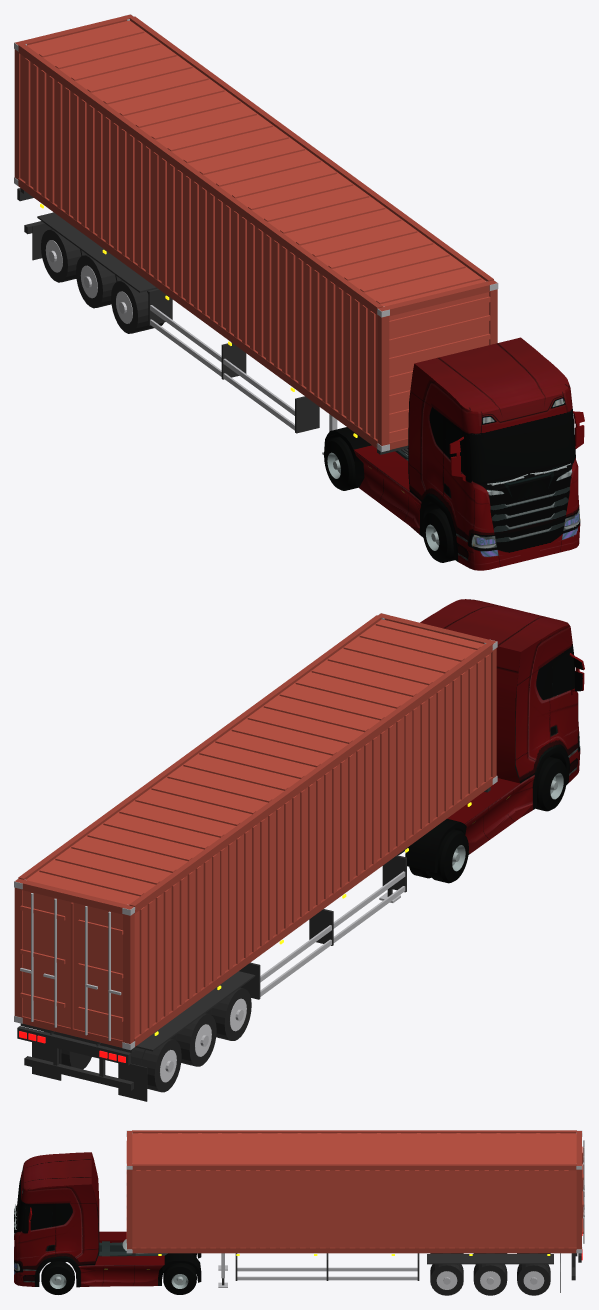
File: semi_container45_red.glb
3 views of the same model, one above another, from view 1: azimuth 30°, elevation 25°; view 2: azimuth 150°, elevation 25°; view 3: azimuth 270°, elevation 25° (orthographic). The views are drawn at different scales.
Visible parts, largest first — view 1: trailer_container, Cube.001, trailer_wheels, trailer_chassis, Cube.003, Cube.005; view 2: trailer_container, Cube.001, trailer_chassis, trailer_wheels, Cube.005, Cube.003; view 3: trailer_container, Cube.001, trailer_wheels, trailer_chassis, Cube.006, Cube.004.
Part boxes in pixels (box(x1,y1,x2,y2)): trailer_container: box(14, 14, 498, 452); Cube.001: box(324, 337, 584, 570); trailer_wheels: box(37, 212, 164, 333); trailer_chassis: box(17, 188, 408, 454); Cube.003: box(422, 508, 454, 562); Cube.005: box(324, 437, 357, 490); trailer_container: box(14, 613, 497, 1050); Cube.001: box(397, 599, 584, 872); trailer_chassis: box(17, 787, 490, 1101); trailer_wheels: box(44, 971, 255, 1092); Cube.005: box(409, 829, 468, 883); Cube.003: box(535, 756, 566, 811); trailer_container: box(126, 1130, 584, 1253); Cube.001: box(14, 1152, 201, 1287); trailer_wheels: box(427, 1253, 553, 1295); trailer_chassis: box(131, 1231, 582, 1292); Cube.006: box(41, 1261, 74, 1294); Cube.004: box(163, 1263, 196, 1294).
Size of the model in its own units: 2.9 by 4.35 by 17.21.
9 materials, 1 textured.
